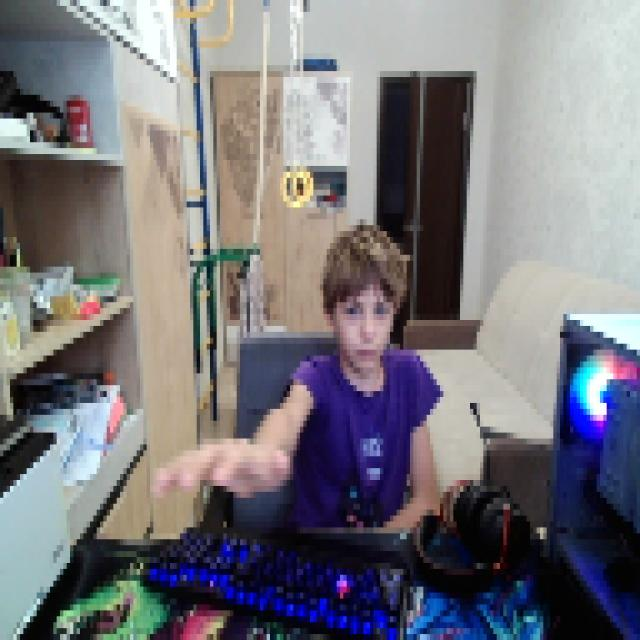hand: (150, 427, 290, 498)
